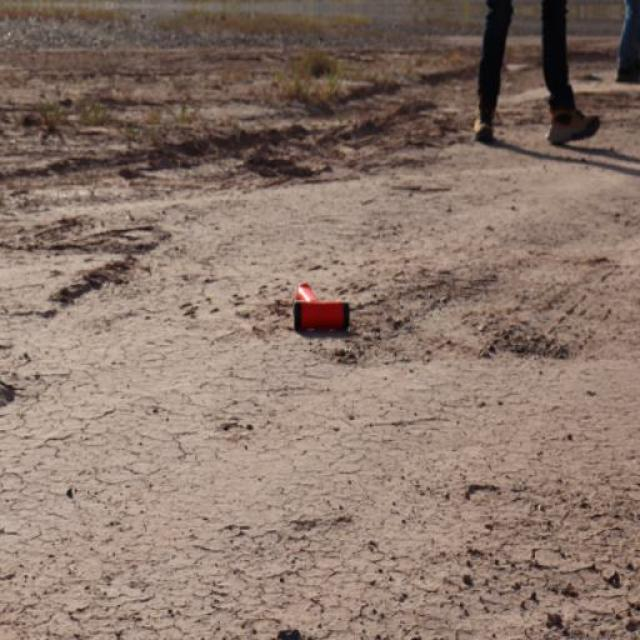mallet: (291, 280, 350, 334)
